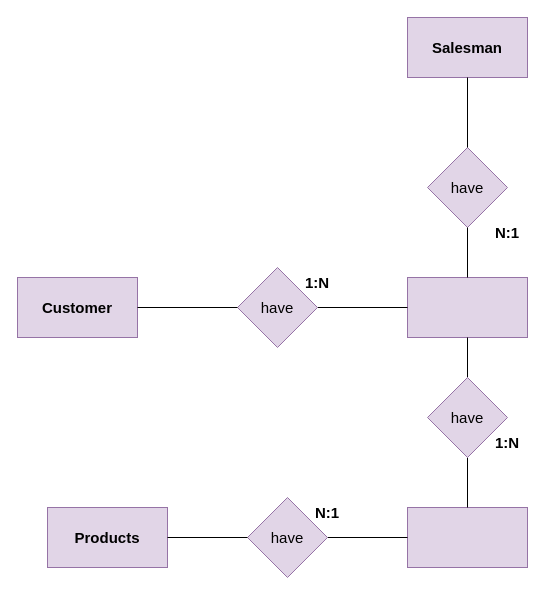
Some shapes in this 555 by 595 pixel diagram are drawn without their labels. The centre of each missing label's shape, as x and y in pixels:
Sales: pixel 467 307
Sales_detail: pixel 467 537
